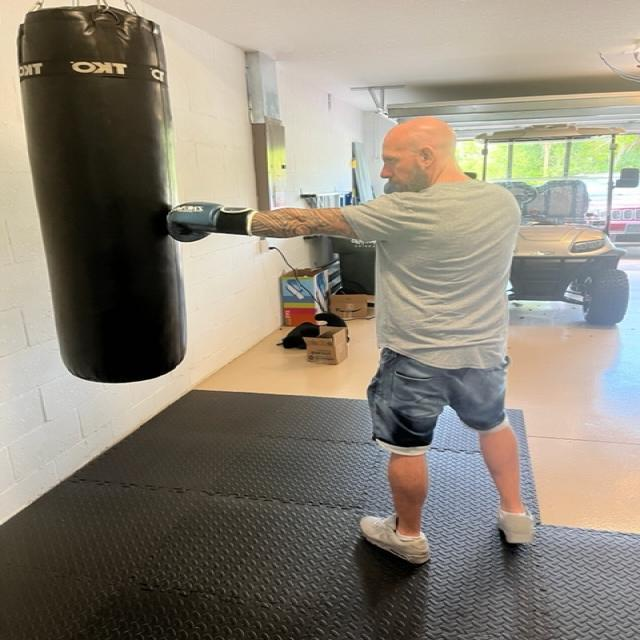jab: (132, 108, 538, 282)
